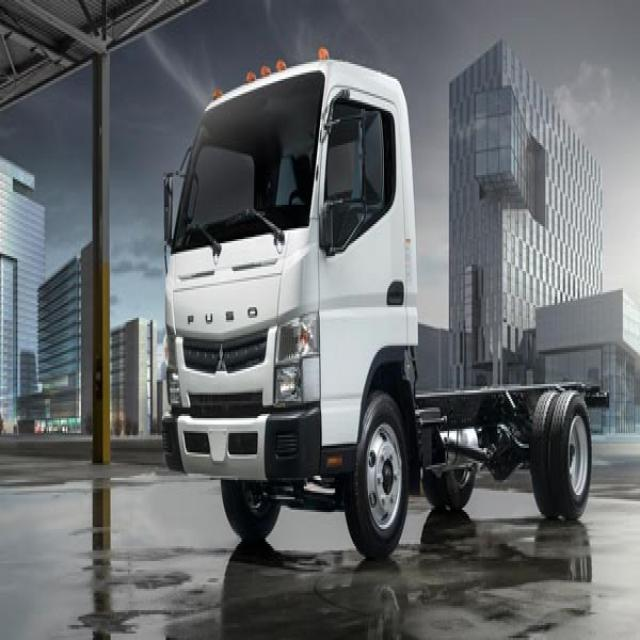truck: (163, 41, 609, 548)
